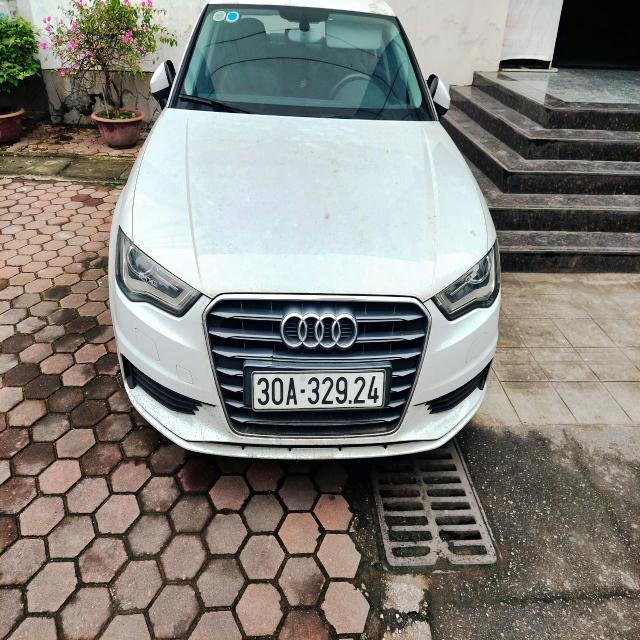license_plate: (254, 371, 386, 409)
